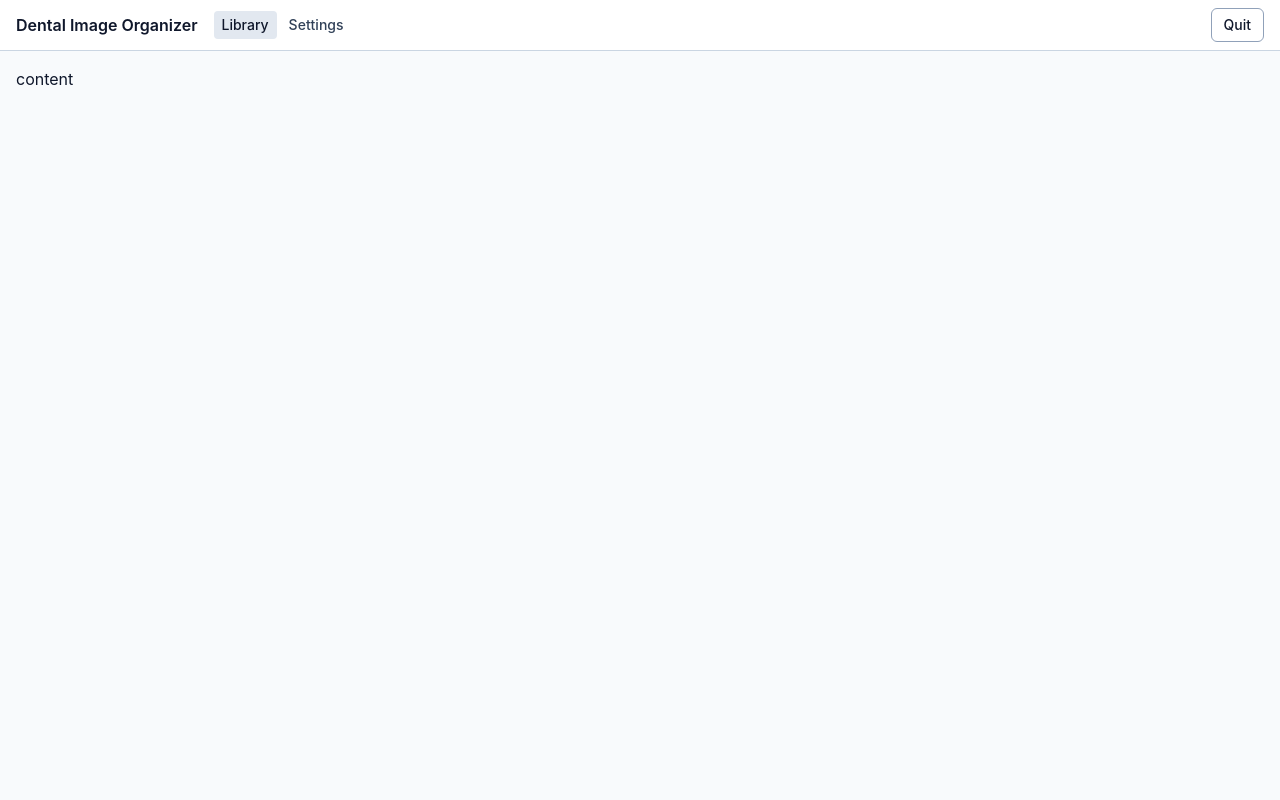
Test case: a refused Quit shows the server's message and keeps the app open
The width and height of the screenshot is (1280, 800).
Click the button "Quit". click: (1237, 25)
box: [1210,8,1264,42]
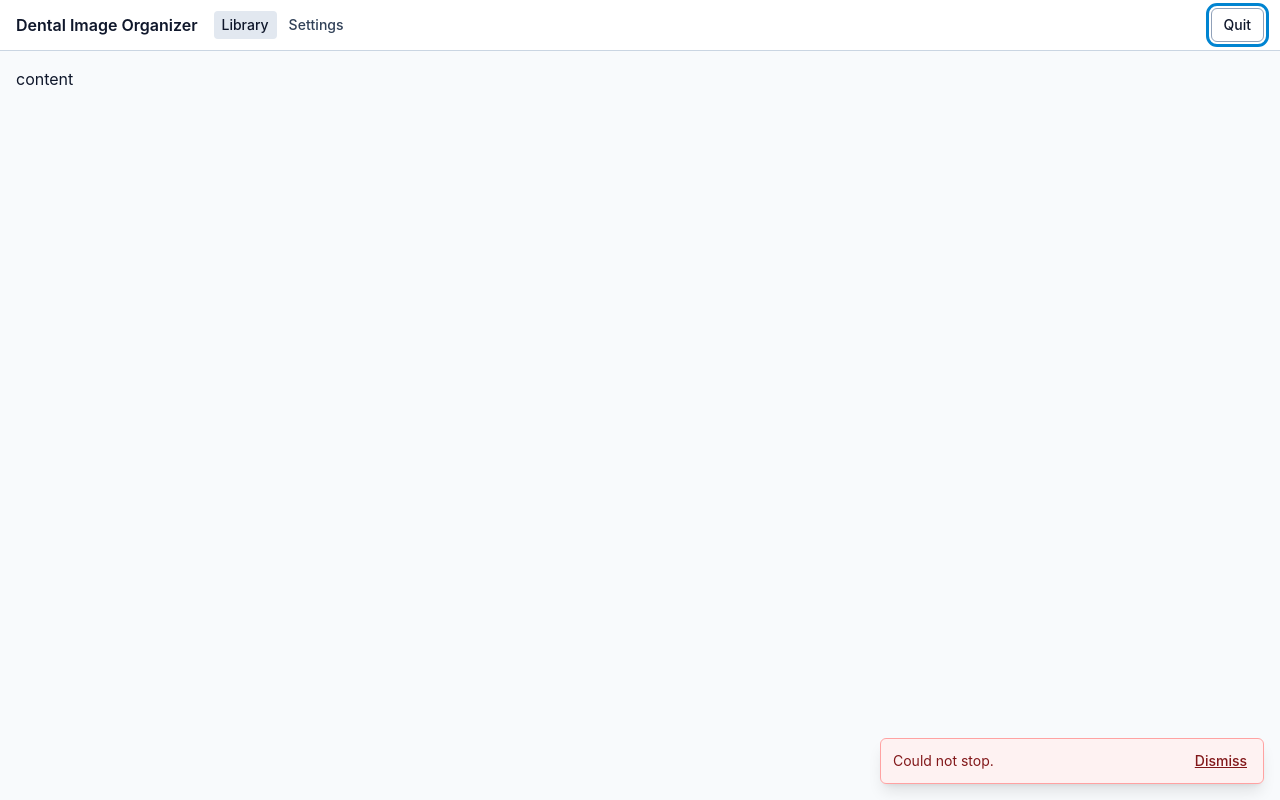
Expected: the text "content" is shown, [16,69,73,89]
Expected: the message shows "Could not stop.", [893,752,994,769]
